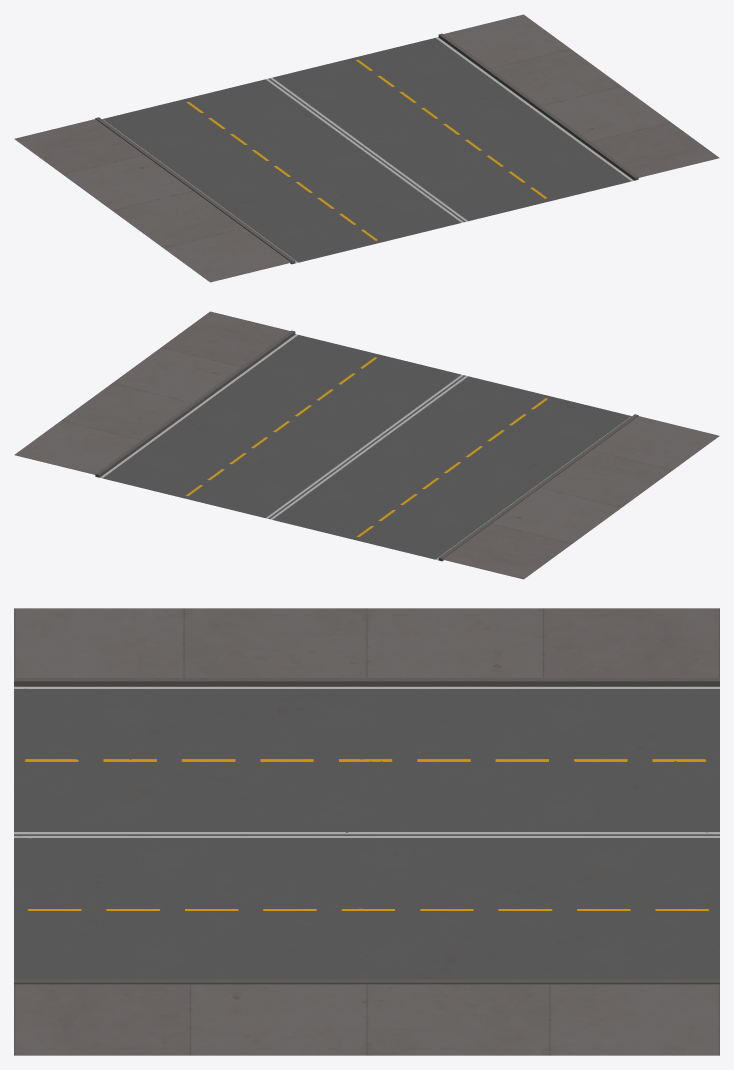
File: SM_Floor_Road_14_M.fbx
The picture shows the model from 3 angles, top to bottom: view 1: azimuth 30°, elevation 25°; view 2: azimuth 150°, elevation 25°; view 3: azimuth 270°, elevation 25°; orthographic projection. The views are drawn at different scales.
Parts seen in each view (by area): view 1: SM_Floor_Road_14_M; view 2: SM_Floor_Road_14_M; view 3: SM_Floor_Road_14_M.
Boxes of the visible parts, x1,y1,x2,y2 form: SM_Floor_Road_14_M: [14, 14, 719, 282]; SM_Floor_Road_14_M: [14, 311, 719, 579]; SM_Floor_Road_14_M: [14, 608, 719, 1055].
Size of the model in its own units: 15 by 0.075 by 10.
